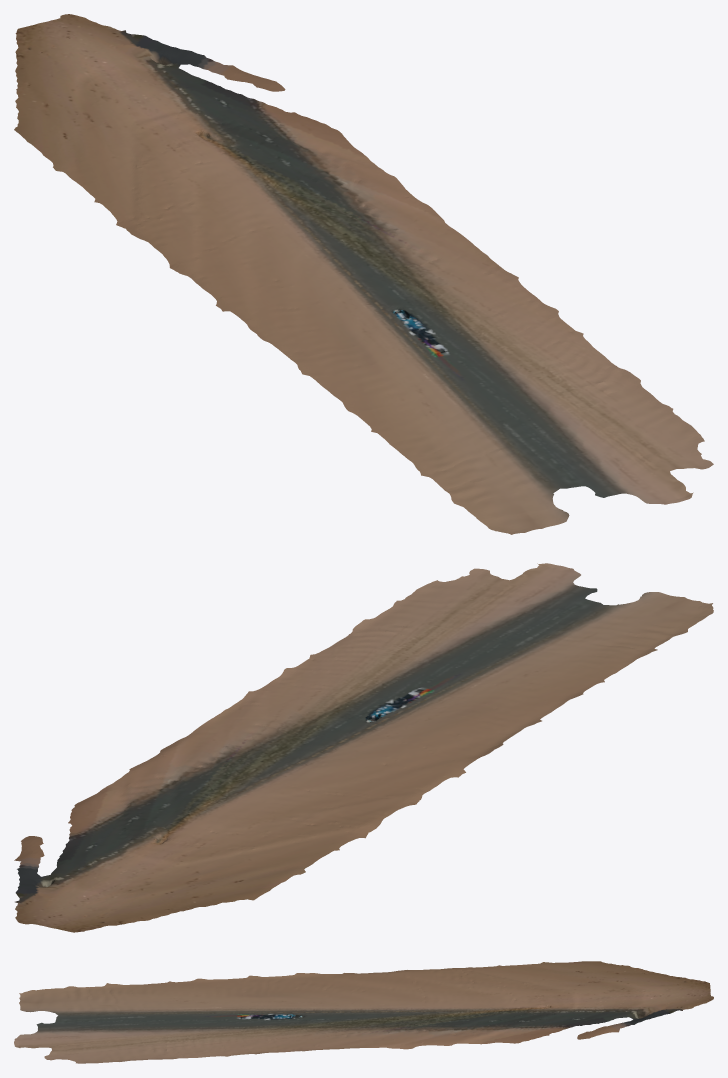
The picture shows the model from 3 angles, top to bottom: view 1: azimuth 30°, elevation 25°; view 2: azimuth 150°, elevation 25°; view 3: azimuth 270°, elevation 25°; orthographic projection. The views are drawn at different scales.
Bounding box in the file's own units: 1.2 × 0.2801 × 4.64.
